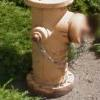Hydrant: (18, 0, 86, 95)
